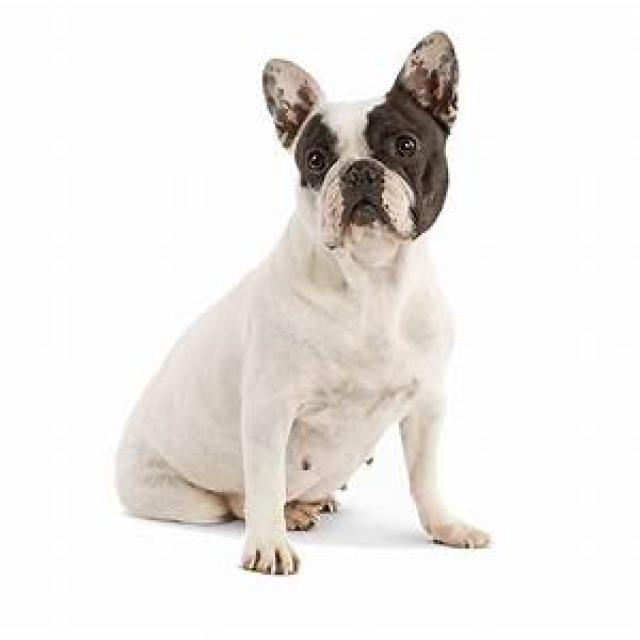dog: (111, 30, 491, 577)
